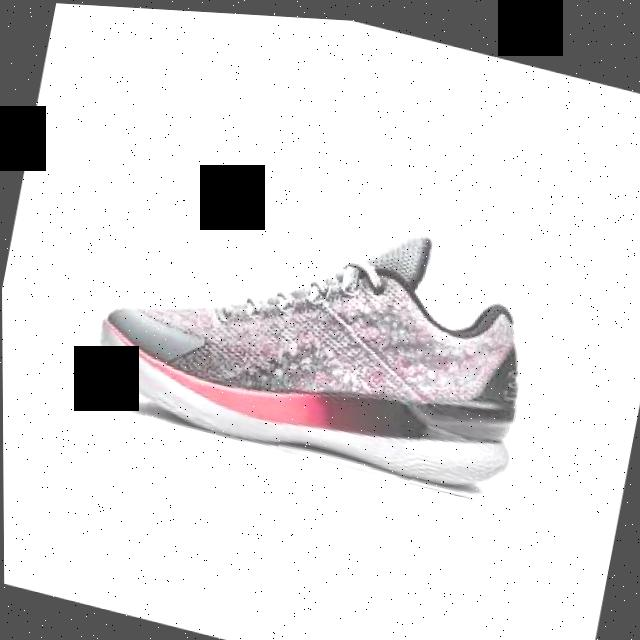shoe: (93, 162, 552, 504), (96, 228, 522, 484)
